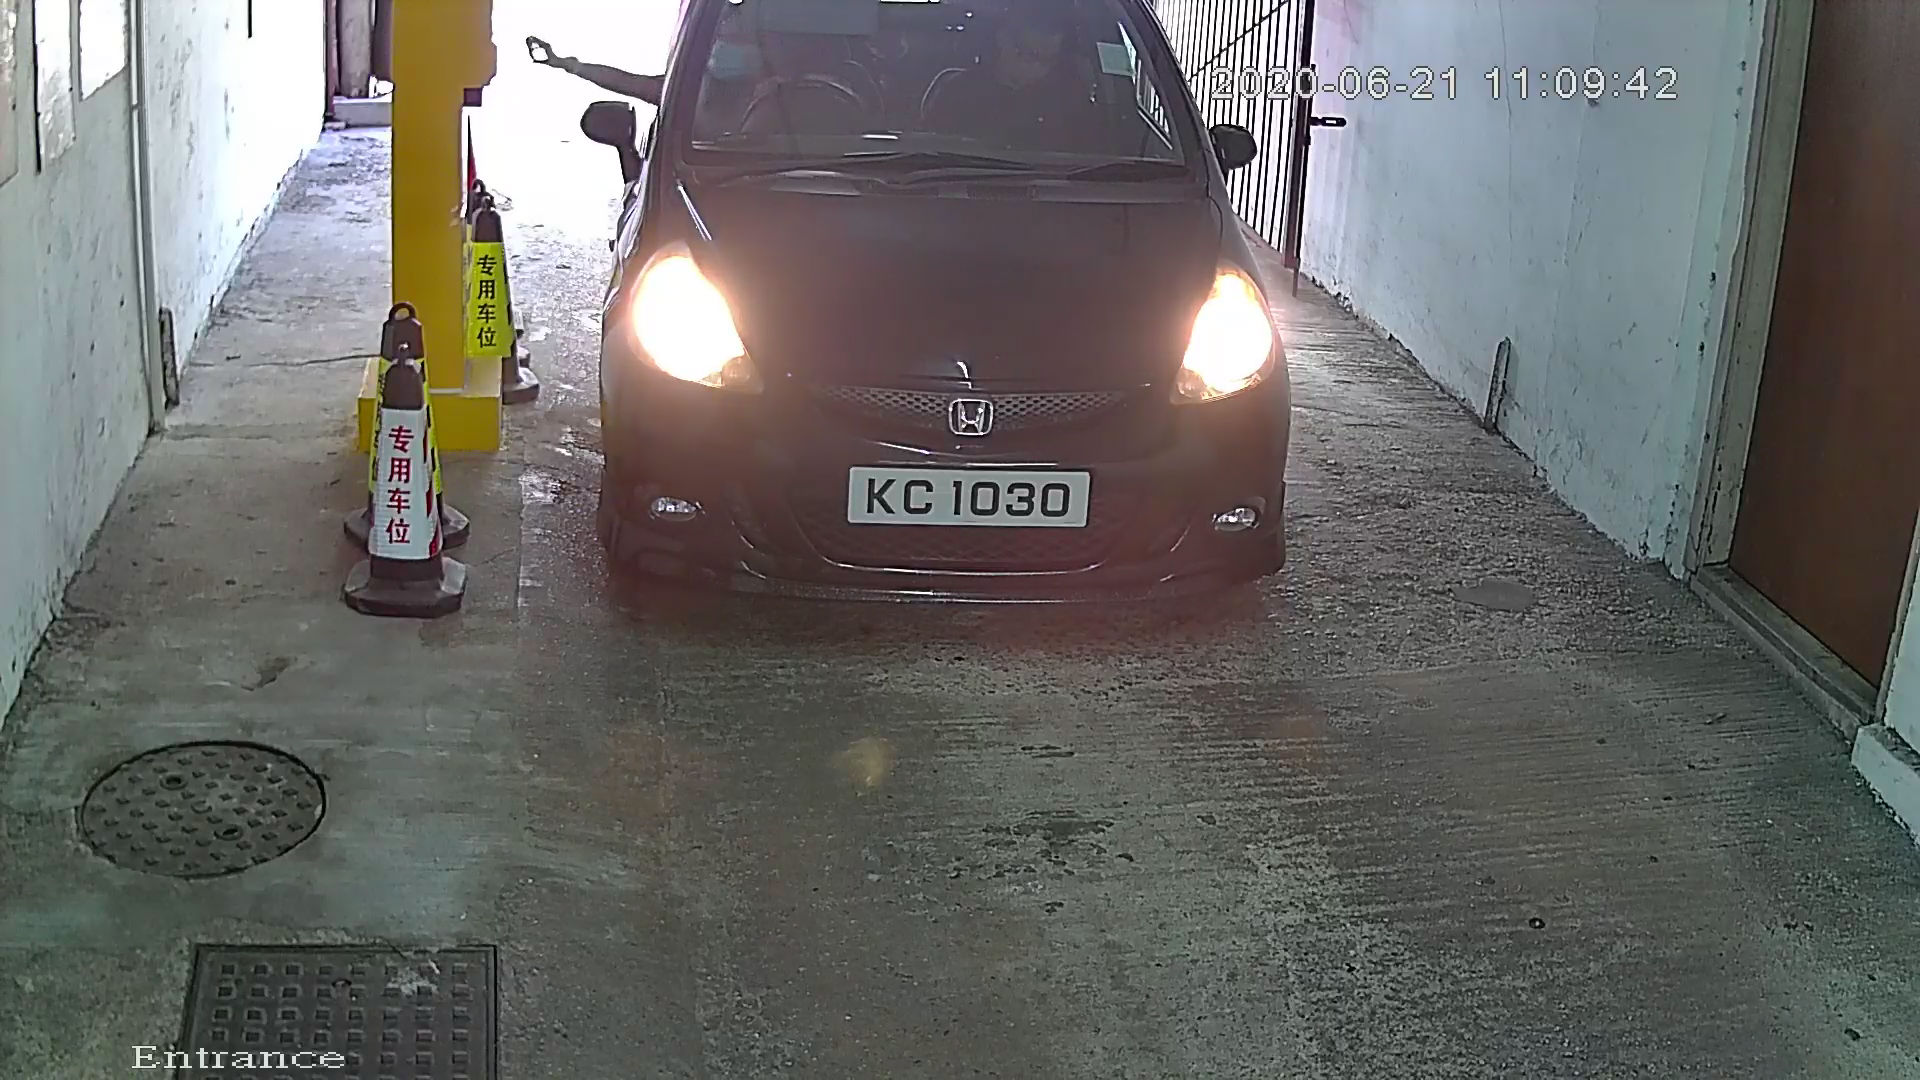privatecar: (558, 3, 1332, 661)
